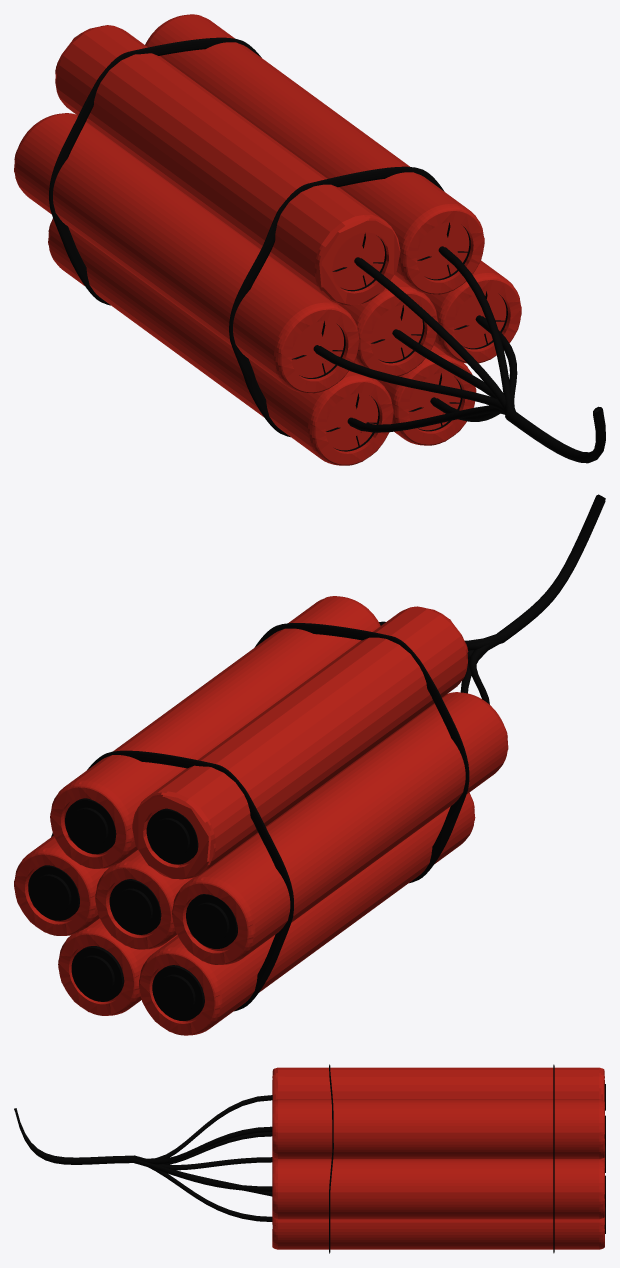
File: Dynamite.fbx
3 views of the same model, one above another, from view 1: azimuth 30°, elevation 25°; view 2: azimuth 150°, elevation 25°; view 3: azimuth 270°, elevation 25° (orthographic). The views are drawn at different scales.
Visible parts, largest first — view 1: Dynamite; view 2: Dynamite; view 3: Dynamite.
Boxes of the visible parts, x1,y1,x2,y2 form: Dynamite: (14, 14, 605, 465); Dynamite: (14, 494, 605, 1035); Dynamite: (14, 1064, 605, 1253).
Size of the model in its own units: 235 by 229 by 766.
